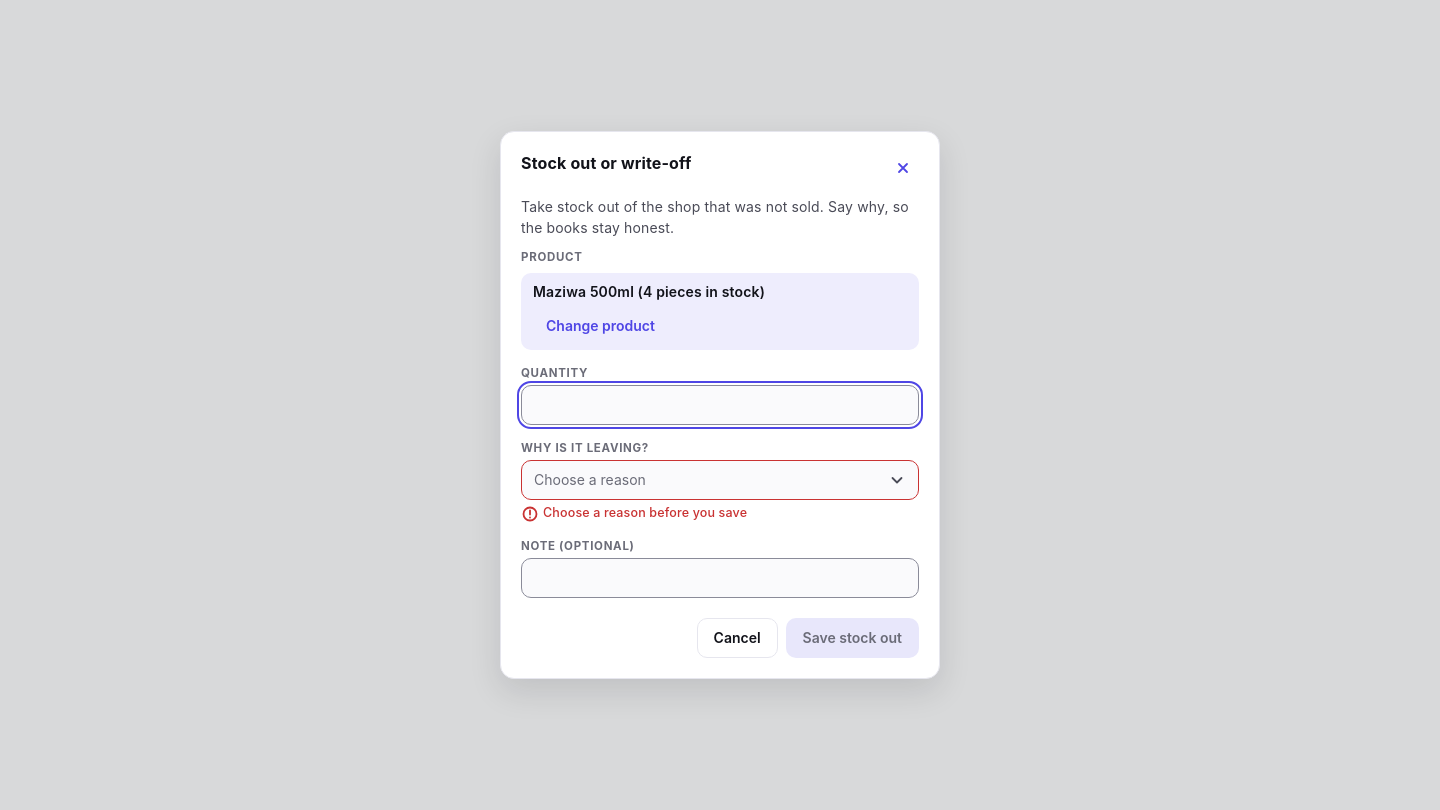
Test: Stock out or write-off › the reasons are Damaged, Expired, Lost, Used in the shop and Other with a note
The image size is (1440, 810).
Click the dropdown named "Why is it leaving".
click(590, 480)  # box top-left (521, 460), bottom-right (919, 500)
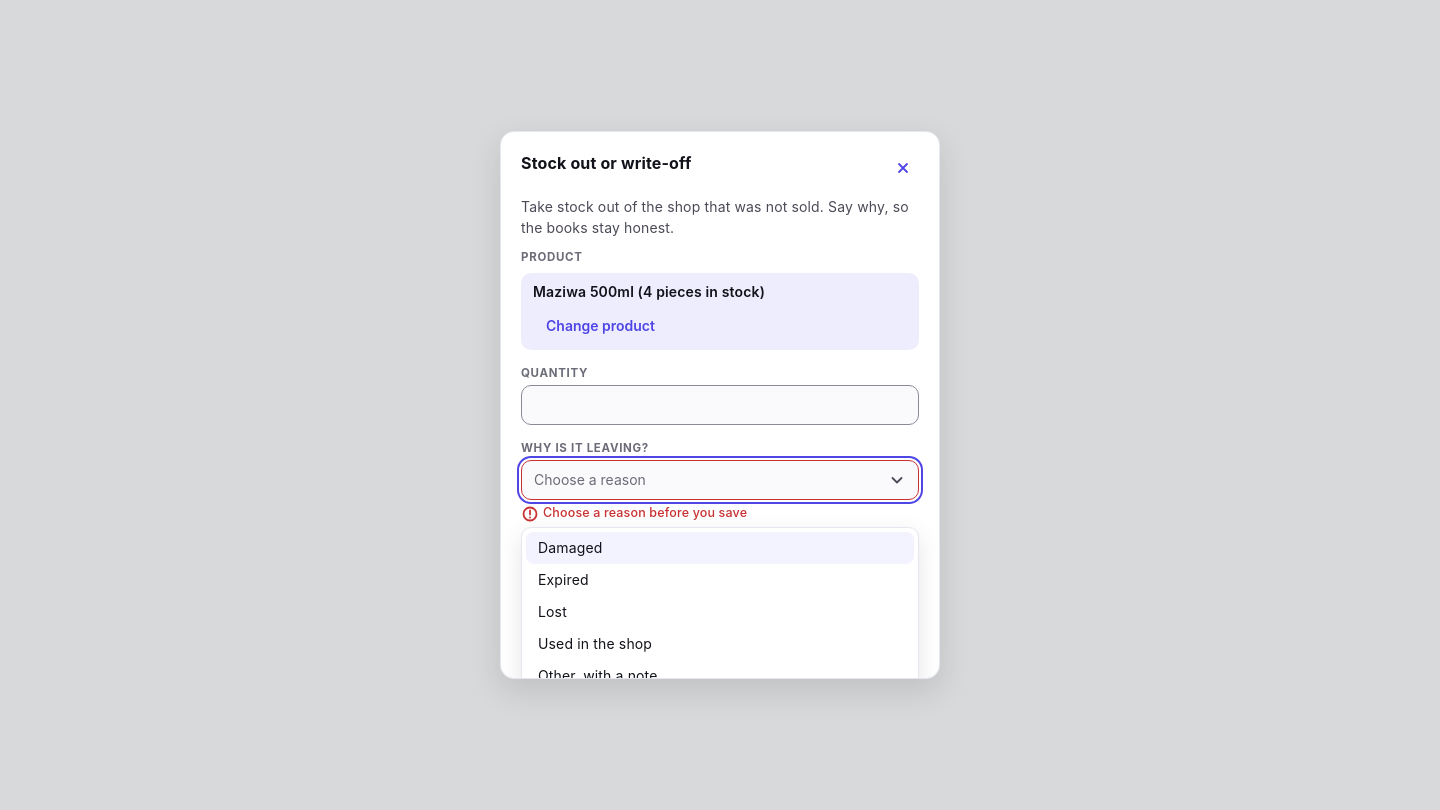
Expected: the options read "Damaged", "Expired", "Lost", "Used in the shop", "Other, with a note", in this order, top-left (526, 532), bottom-right (914, 564); top-left (538, 571), bottom-right (589, 588); top-left (538, 603), bottom-right (567, 620); top-left (538, 635), bottom-right (652, 652); top-left (538, 667), bottom-right (658, 679)
